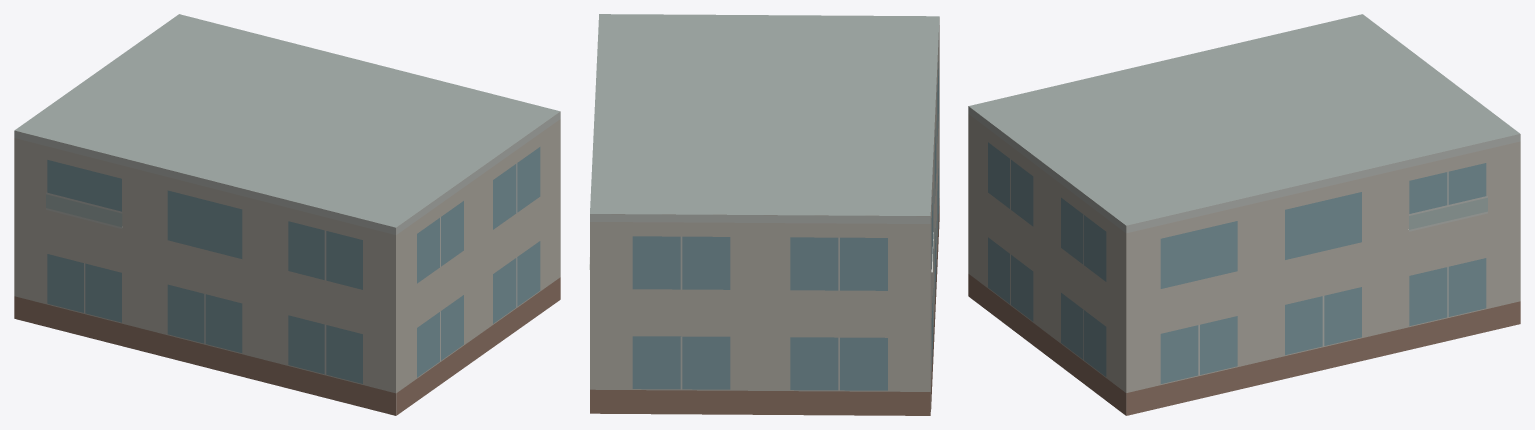
Rendered from survey-upis-32707309.glb.
The picture shows the model from 3 angles, left to right: view 1: azimuth 30°, elevation 25°; view 2: azimuth 150°, elevation 25°; view 3: azimuth 270°, elevation 25°; orthographic projection. The views are drawn at different scales.
Visible parts, largest first — view 1: survey-upis-32707309.tmp; view 2: survey-upis-32707309.tmp; view 3: survey-upis-32707309.tmp.
Boxes of the visible parts, x1,y1,x2,y2 form: survey-upis-32707309.tmp: [14, 14, 560, 415]; survey-upis-32707309.tmp: [589, 14, 939, 415]; survey-upis-32707309.tmp: [968, 14, 1520, 415].
Bounding box in the file's own units: 14.58 × 6.1 × 16.06.
